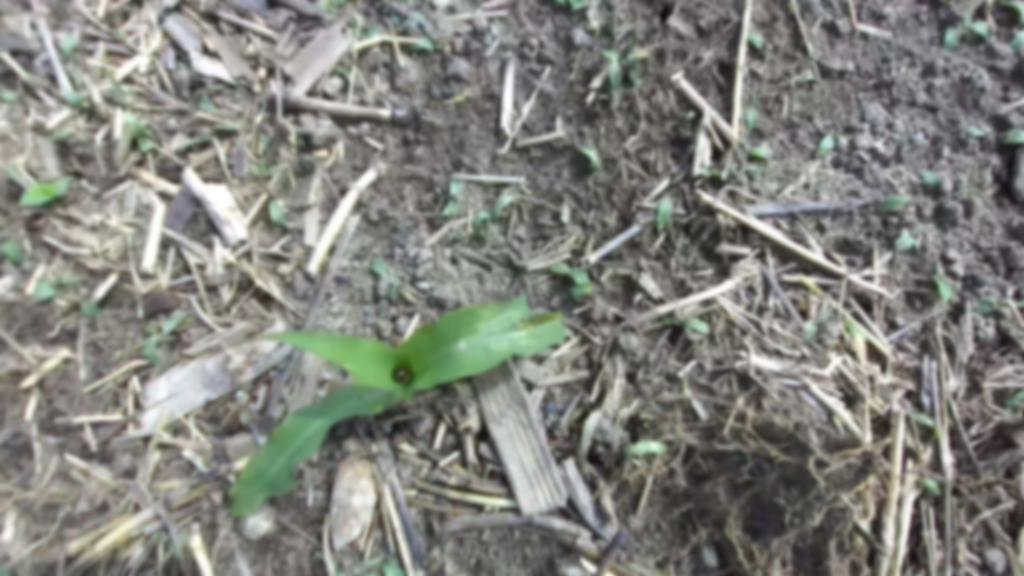BroWeed: (136, 297, 194, 368), (20, 260, 88, 310), (464, 182, 520, 242), (13, 168, 81, 214), (837, 312, 882, 379), (546, 253, 602, 297), (934, 3, 982, 54), (597, 44, 630, 110), (877, 224, 919, 273), (920, 253, 959, 304), (116, 106, 160, 149), (46, 109, 98, 145), (902, 400, 945, 443), (798, 294, 835, 343), (193, 90, 238, 129), (259, 196, 301, 236), (913, 159, 953, 199), (0, 235, 39, 276), (0, 153, 35, 195), (618, 23, 653, 65), (0, 75, 43, 109), (575, 138, 609, 179), (808, 127, 850, 160), (52, 24, 85, 64), (978, 288, 1016, 322), (619, 435, 670, 460), (19, 226, 50, 264), (170, 131, 213, 158), (618, 52, 644, 96), (736, 135, 774, 164), (653, 188, 678, 231), (659, 314, 712, 334), (62, 51, 88, 91), (566, 277, 604, 304), (968, 15, 1002, 45), (189, 77, 229, 102), (913, 471, 946, 500), (350, 551, 388, 576), (362, 554, 405, 576), (875, 192, 919, 213), (170, 59, 192, 100), (437, 195, 466, 226), (370, 253, 390, 295), (726, 160, 753, 188), (678, 323, 706, 349), (909, 225, 931, 257), (384, 267, 403, 302), (62, 88, 91, 109), (758, 138, 779, 167), (744, 27, 769, 51), (136, 133, 161, 154), (969, 297, 994, 318), (143, 314, 164, 338), (395, 17, 422, 35), (389, 6, 407, 33), (331, 64, 355, 84), (746, 98, 760, 132), (407, 34, 433, 51), (258, 128, 275, 154), (998, 128, 1024, 144), (1006, 388, 1024, 410), (959, 124, 985, 139), (80, 298, 101, 316), (447, 180, 465, 201), (360, 24, 383, 40), (738, 164, 768, 176), (794, 70, 818, 84), (697, 165, 721, 179), (568, 0, 589, 11), (137, 115, 153, 129), (964, 33, 982, 45), (450, 229, 468, 241), (260, 155, 269, 178), (333, 559, 345, 576), (348, 9, 358, 27), (293, 131, 302, 147), (553, 0, 566, 7), (332, 0, 342, 9), (339, 0, 348, 6)
Maize: (163, 206, 579, 521)
